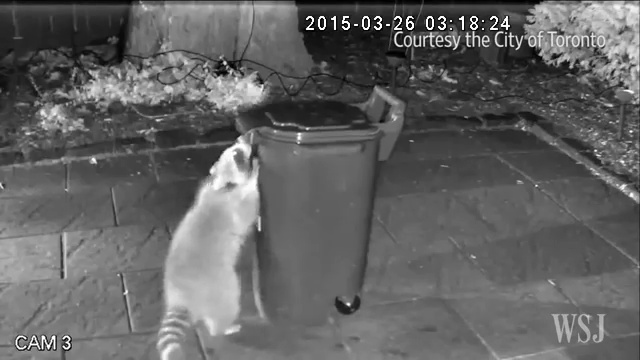raccoon: (153, 132, 270, 360)
